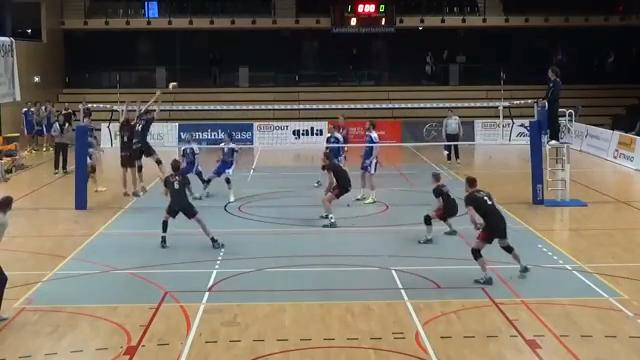muro: (133, 87, 174, 200), (115, 95, 137, 197)
